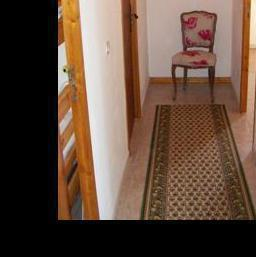Puerta: (60, 0, 94, 218), (121, 0, 140, 133)
